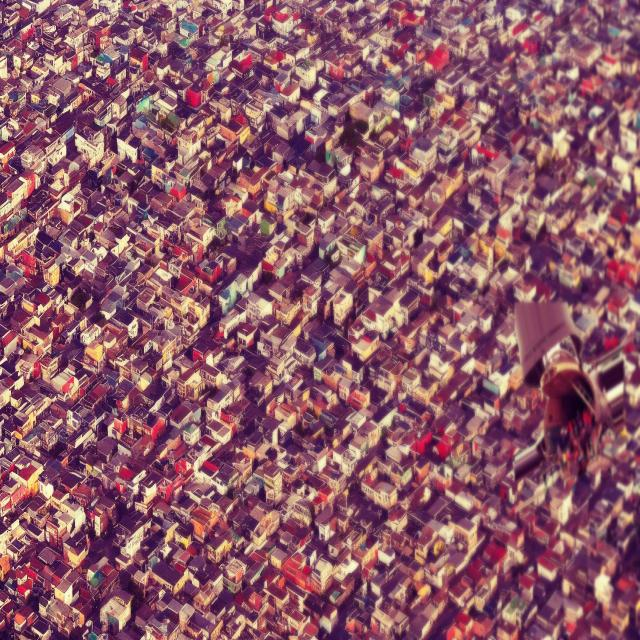airplane: (512, 304, 624, 490)
